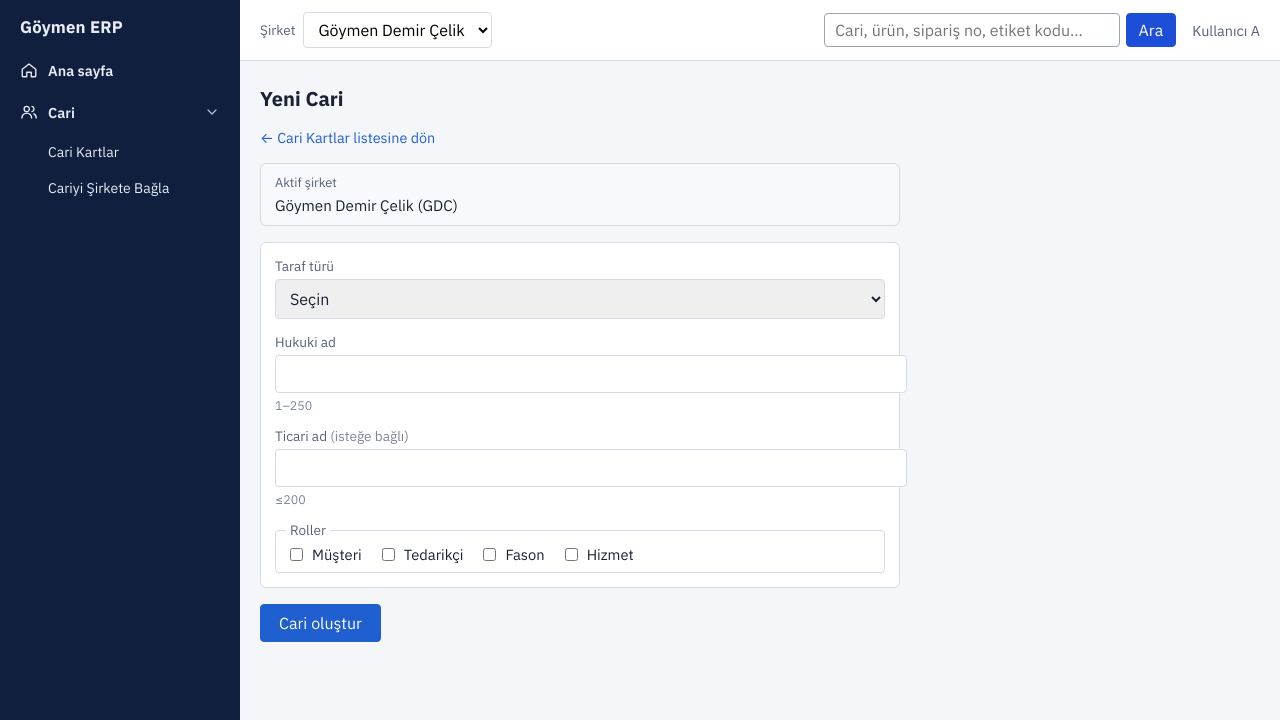
Test case: C-02 success (G-002 checks 1, 10) › a 201 completes ONCE: the verified id opens Cari 360 under the same company; one create, one detail read
expect the heading "Yeni Cari" is shown: met, box 260,85 -> 344,112
Select "Tüzel kişi" in the dropdown labelled "Taraf türü" at (580, 299), box 275,279 -> 885,319
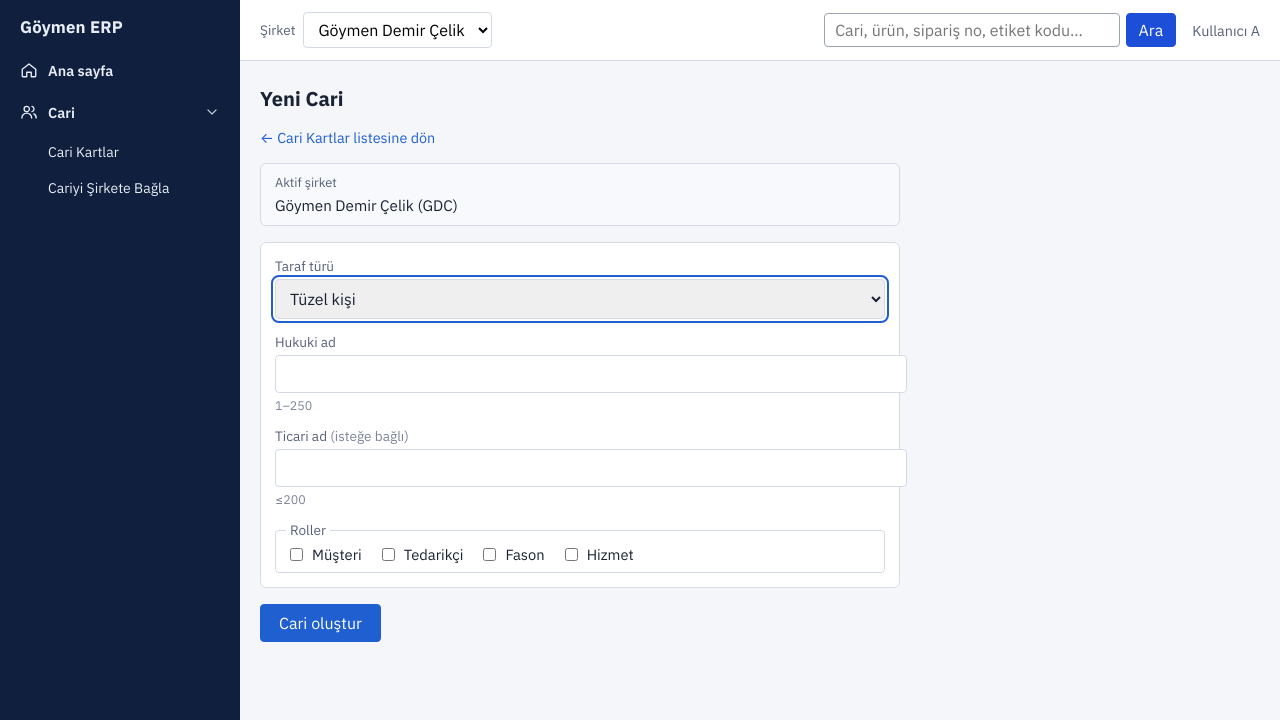
Type "Örnek Metal Sanayi ve Ticaret A.Ş." into the field labelled "Hukuki ad" at (591, 374), box 275,355 -> 907,393
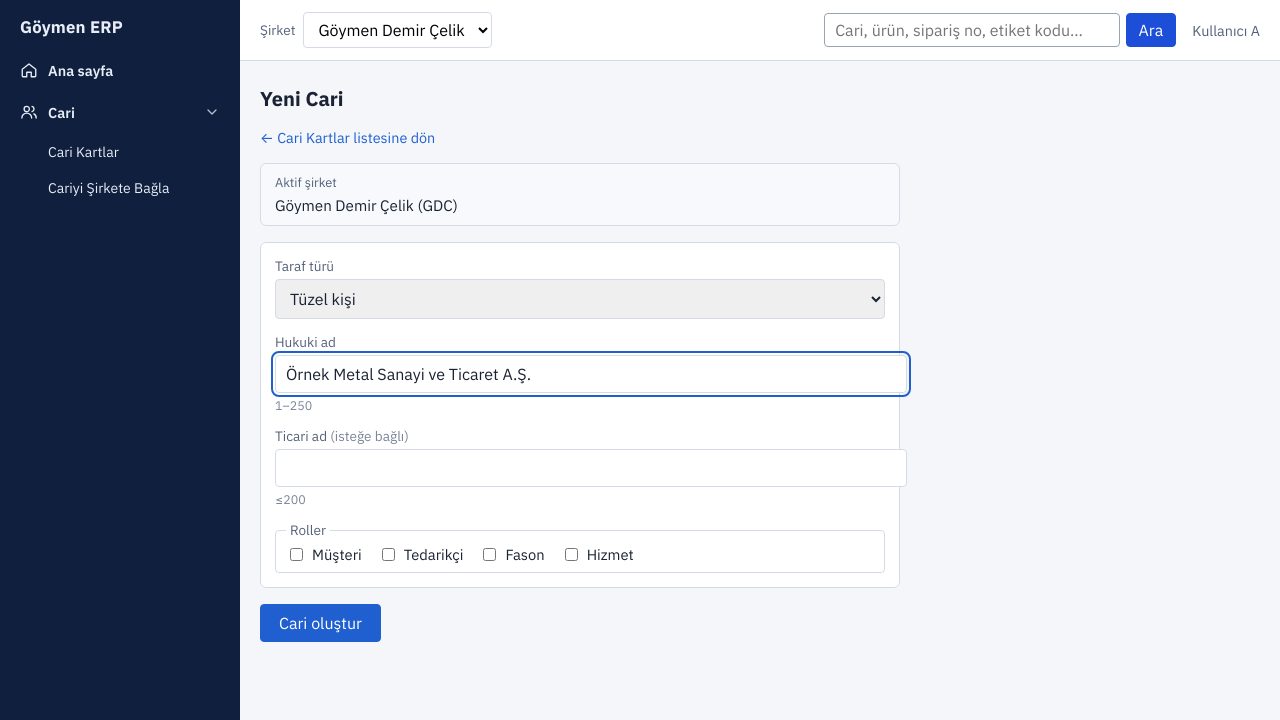
Click the checkbox labelled "Müşteri" at (296, 554), box 290,548 -> 303,561
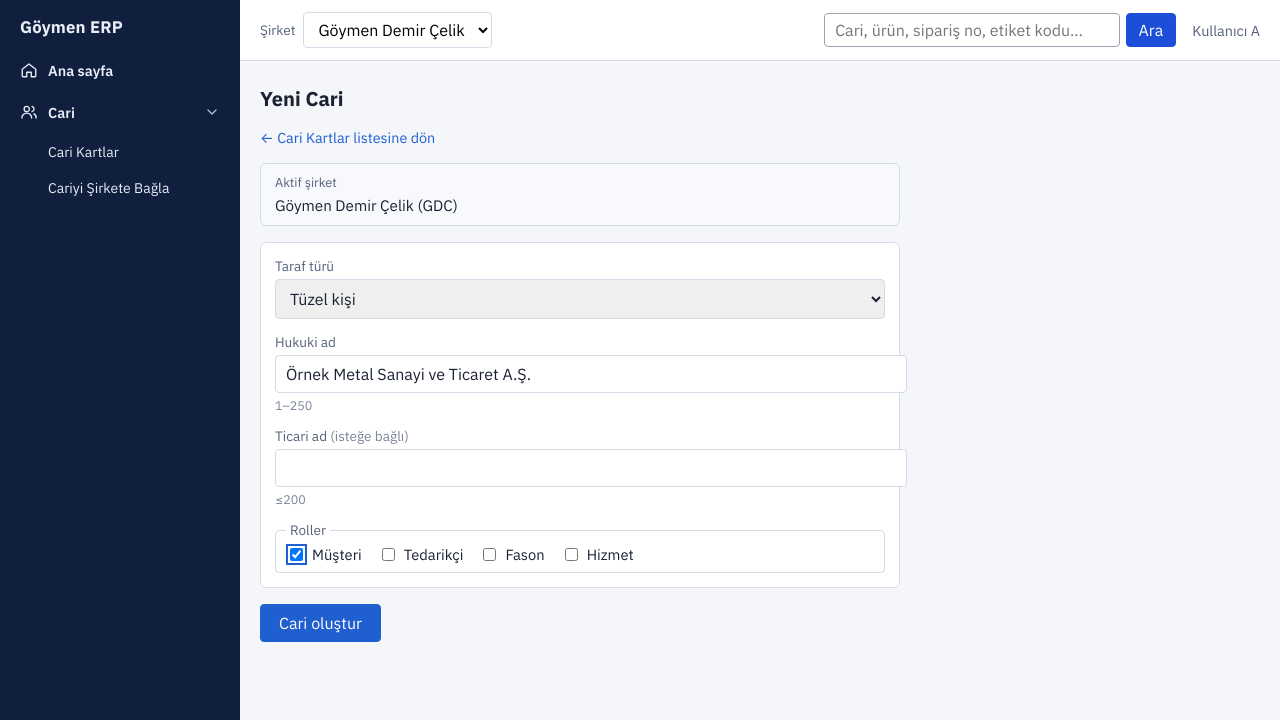
Click the checkbox labelled "Tedarikçi" at (388, 554), box 382,548 -> 395,561
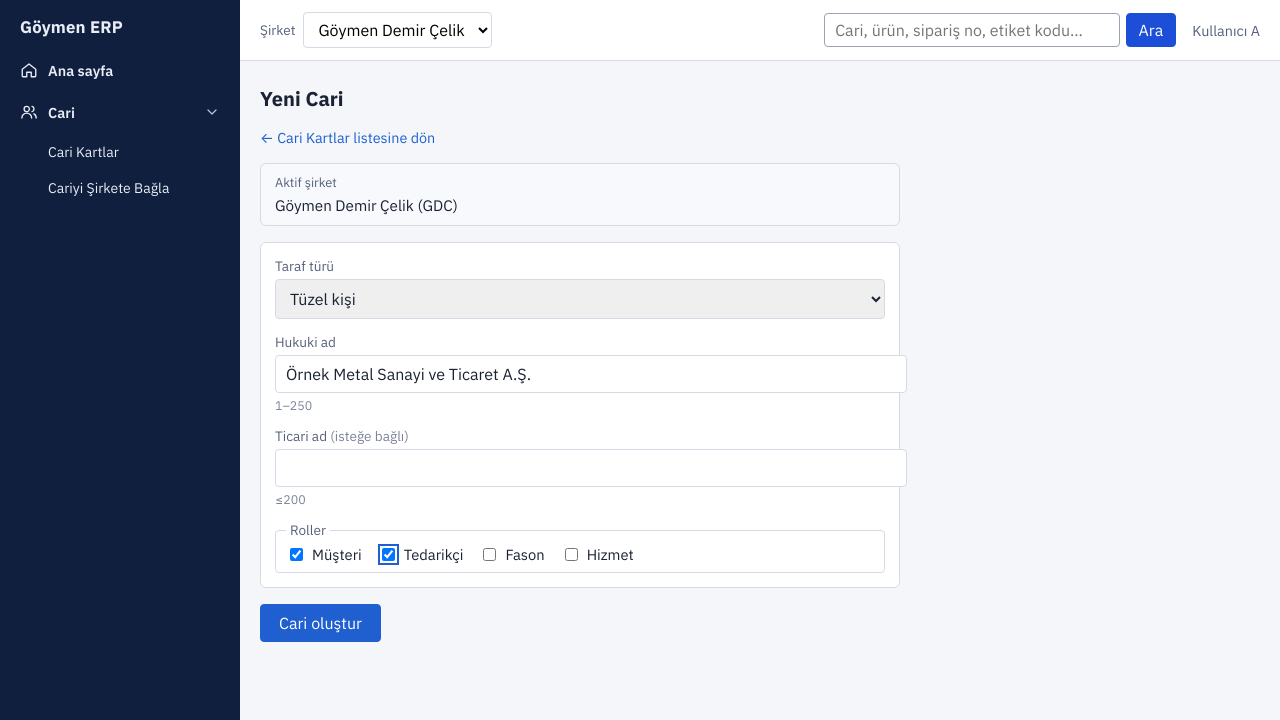
Click the button "Cari oluştur" at (320, 623), box 260,604 -> 381,642
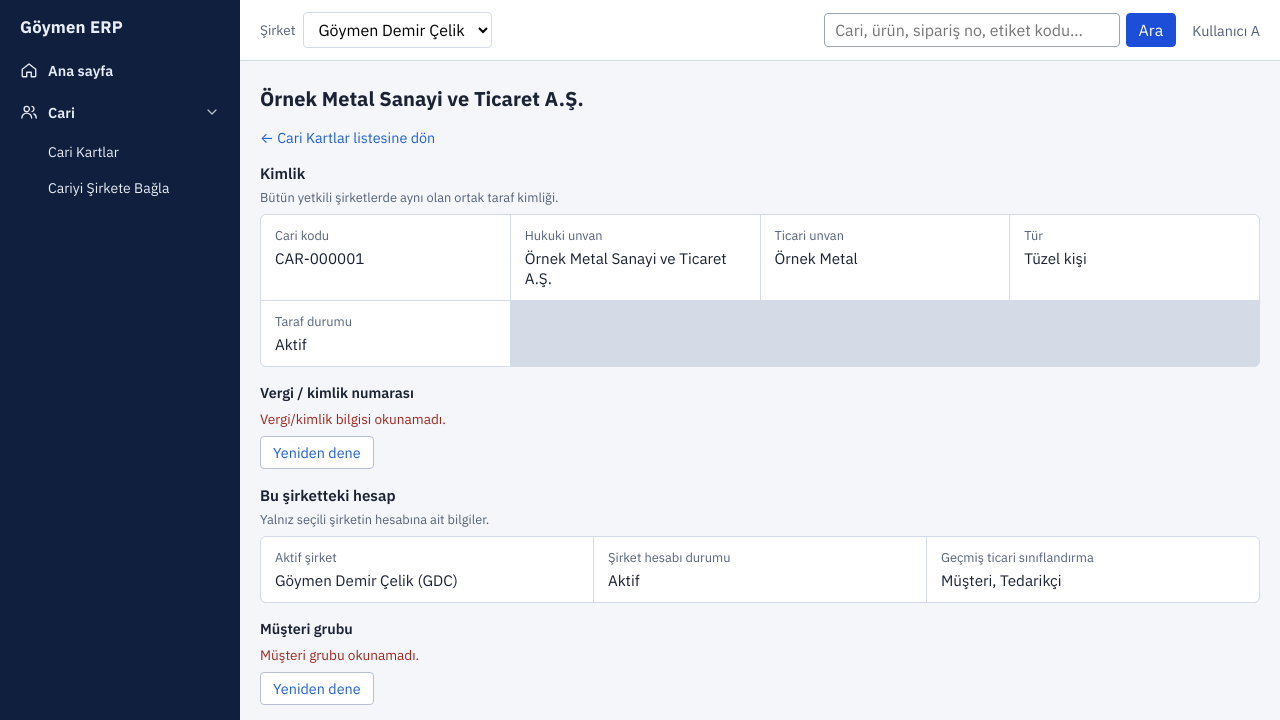
expect the heading "Örnek Metal Sanayi ve Ticaret A.Ş." is shown: met, box 260,85 -> 584,112
expect the text "CAR-000001" is shown: met, box 275,248 -> 364,268
expect the text "Müşteri, Tedarikçi" is shown: met, box 941,570 -> 1062,590
